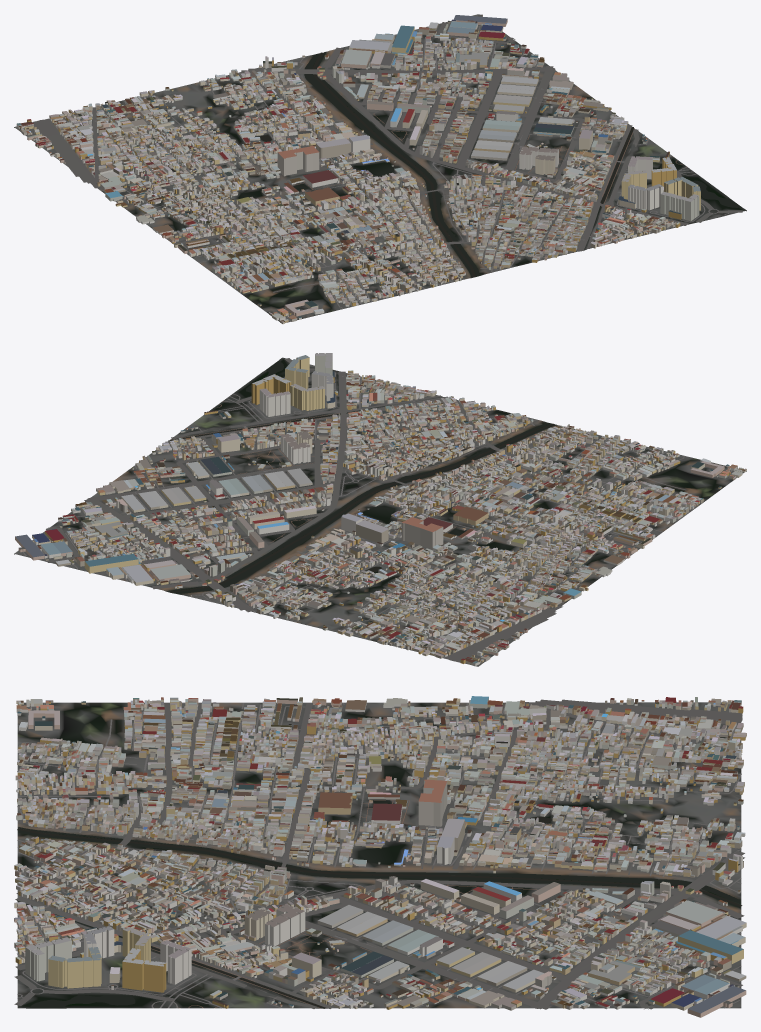
3 views of the same model, one above another, from view 1: azimuth 30°, elevation 25°; view 2: azimuth 150°, elevation 25°; view 3: azimuth 270°, elevation 25° (orthographic). The views are drawn at different scales.
Visible parts, largest first — view 1: buildings, ground, roads, water; view 2: buildings, ground, roads, water; view 3: buildings, ground, roads, water.
Part boxes in pixels (x1,y1,x2,y2): buildings: [16, 14, 700, 324]; ground: [14, 14, 746, 322]; roads: [31, 22, 742, 321]; water: [260, 51, 741, 277]; buildings: [15, 353, 746, 666]; ground: [14, 357, 746, 666]; roads: [22, 358, 737, 662]; water: [167, 361, 557, 593]; buildings: [14, 696, 746, 1017]; ground: [17, 702, 741, 1008]; roads: [14, 699, 744, 1009]; water: [17, 816, 742, 1008].
Bounding box in the file's own units: 1455 × 61.22 × 1419.
